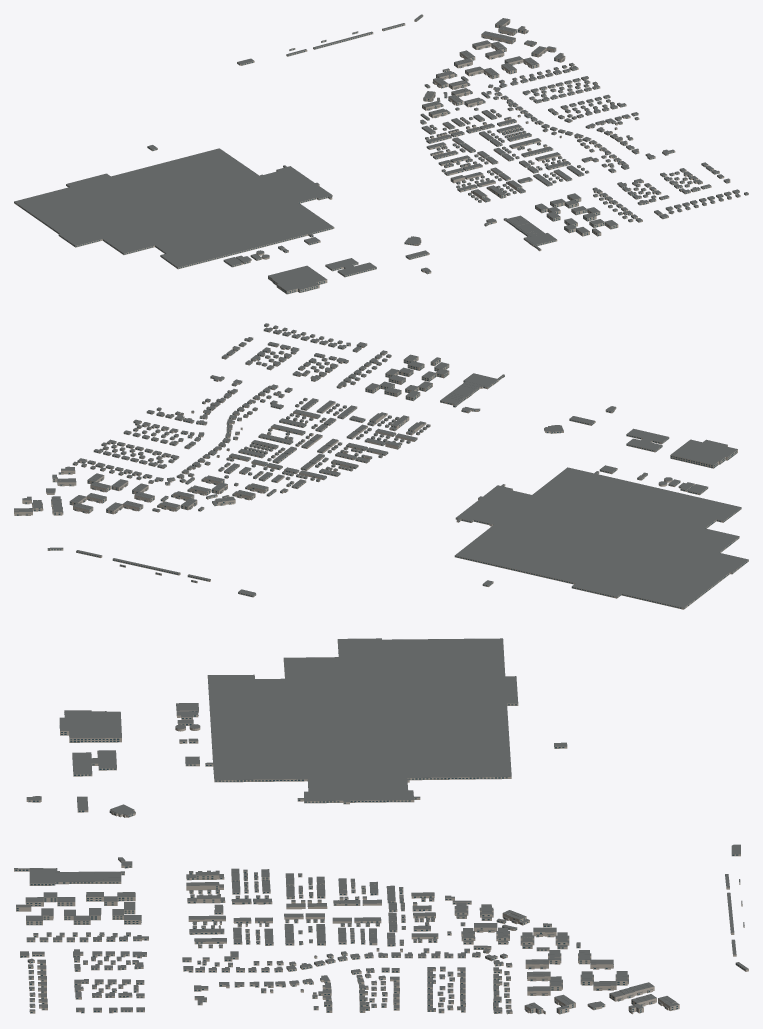
3 views of the same model, one above another, from view 1: azimuth 30°, elevation 25°; view 2: azimuth 150°, elevation 25°; view 3: azimuth 270°, elevation 25° (orthographic). The views are drawn at different scales.
Visible parts, largest first — view 1: Buildings (-1, -4) Roof membrane, Buildings (-1, -4) Masonry brick, Buildings (-1, -4) Architectural tinted glass, Buildings (-1, -4) Metal coping; view 2: Buildings (-1, -4) Roof membrane, Buildings (-1, -4) Masonry brick, Buildings (-1, -4) Architectural tinted glass, Buildings (-1, -4) Metal coping; view 3: Buildings (-1, -4) Roof membrane, Buildings (-1, -4) Masonry brick, Buildings (-1, -4) Architectural tinted glass, Buildings (-1, -4) Metal coping.
Part boxes in pixels (bbox=[...]): Buildings (-1, -4) Roof membrane: bbox=[14, 14, 748, 290]; Buildings (-1, -4) Masonry brick: bbox=[14, 15, 748, 294]; Buildings (-1, -4) Architectural tinted glass: bbox=[14, 16, 747, 293]; Buildings (-1, -4) Metal coping: bbox=[147, 18, 737, 279]; Buildings (-1, -4) Roof membrane: bbox=[14, 323, 748, 607]; Buildings (-1, -4) Masonry brick: bbox=[14, 324, 748, 609]; Buildings (-1, -4) Architectural tinted glass: bbox=[17, 325, 748, 608]; Buildings (-1, -4) Metal coping: bbox=[14, 325, 741, 604]; Buildings (-1, -4) Roof membrane: bbox=[14, 638, 748, 1011]; Buildings (-1, -4) Masonry brick: bbox=[14, 642, 748, 1014]; Buildings (-1, -4) Architectural tinted glass: bbox=[15, 648, 744, 1013]; Buildings (-1, -4) Metal coping: bbox=[14, 638, 747, 1011].
Size of the model in its own units: 1223 by 8.63 by 1018.
